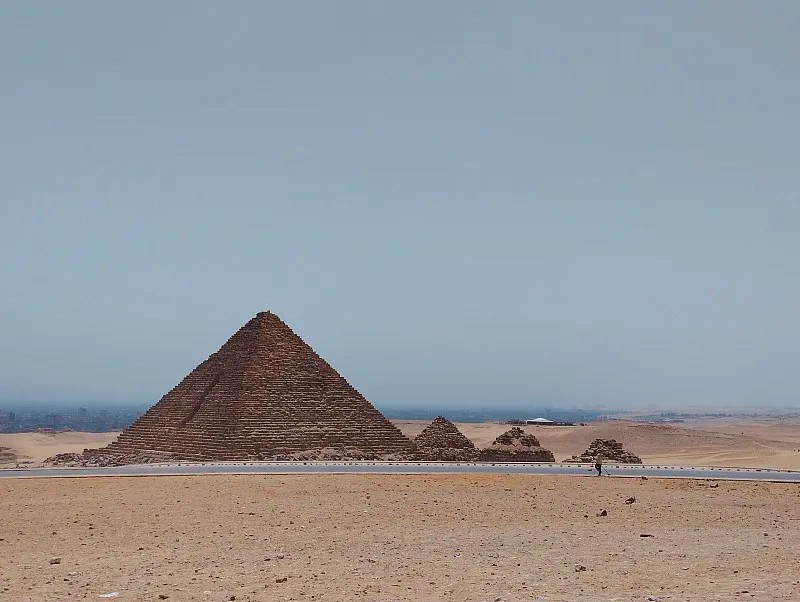Pyramid: (92, 309, 413, 457), (481, 429, 557, 462), (413, 416, 476, 452)
